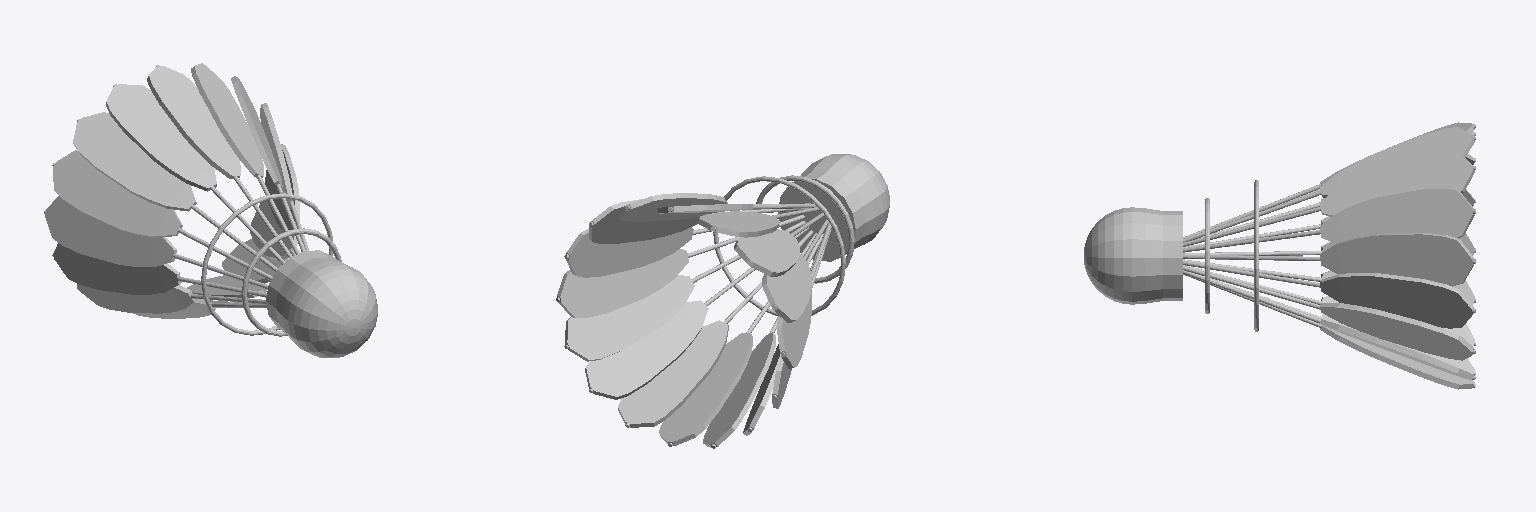
The model's file is Syarol 2.obj.
3 renders of one model, left to right at view 1: azimuth 30°, elevation 25°; view 2: azimuth 150°, elevation 25°; view 3: azimuth 270°, elevation 25°, orthographic.
Parts seen in each view (by area): view 1: Obj_Feather_Sphere.001, Obj_Cork_Sphere; view 2: Obj_Feather_Sphere.001, Obj_Cork_Sphere; view 3: Obj_Feather_Sphere.001, Obj_Cork_Sphere.
Part boxes in pixels (left/top/right/bottom): Obj_Feather_Sphere.001: left=44, top=63, right=308, bottom=318; Obj_Cork_Sphere: left=201, top=193, right=377, bottom=357; Obj_Feather_Sphere.001: left=556, top=193, right=831, bottom=448; Obj_Cork_Sphere: left=713, top=154, right=889, bottom=315; Obj_Feather_Sphere.001: left=1183, top=122, right=1475, bottom=389; Obj_Cork_Sphere: left=1084, top=180, right=1258, bottom=331.
Bounding box in the file's own units: 0.0619 × 0.0619 × 0.0915.